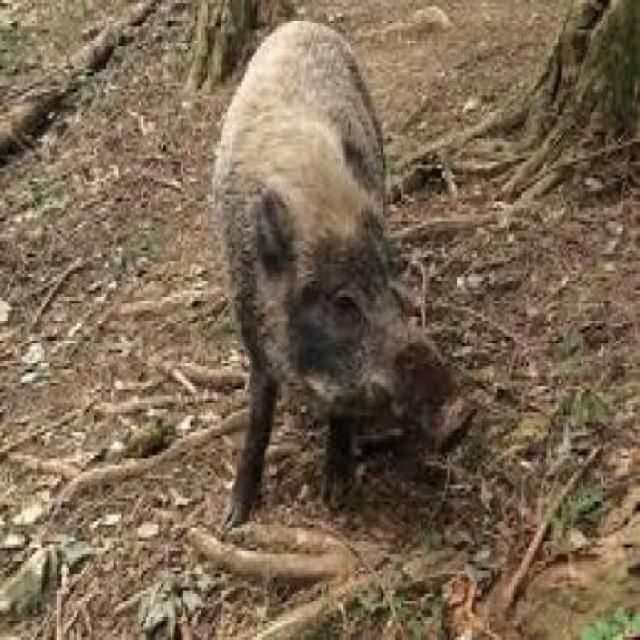Wild Boar: (210, 11, 478, 537)
